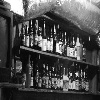beer: (40, 17, 47, 52)
